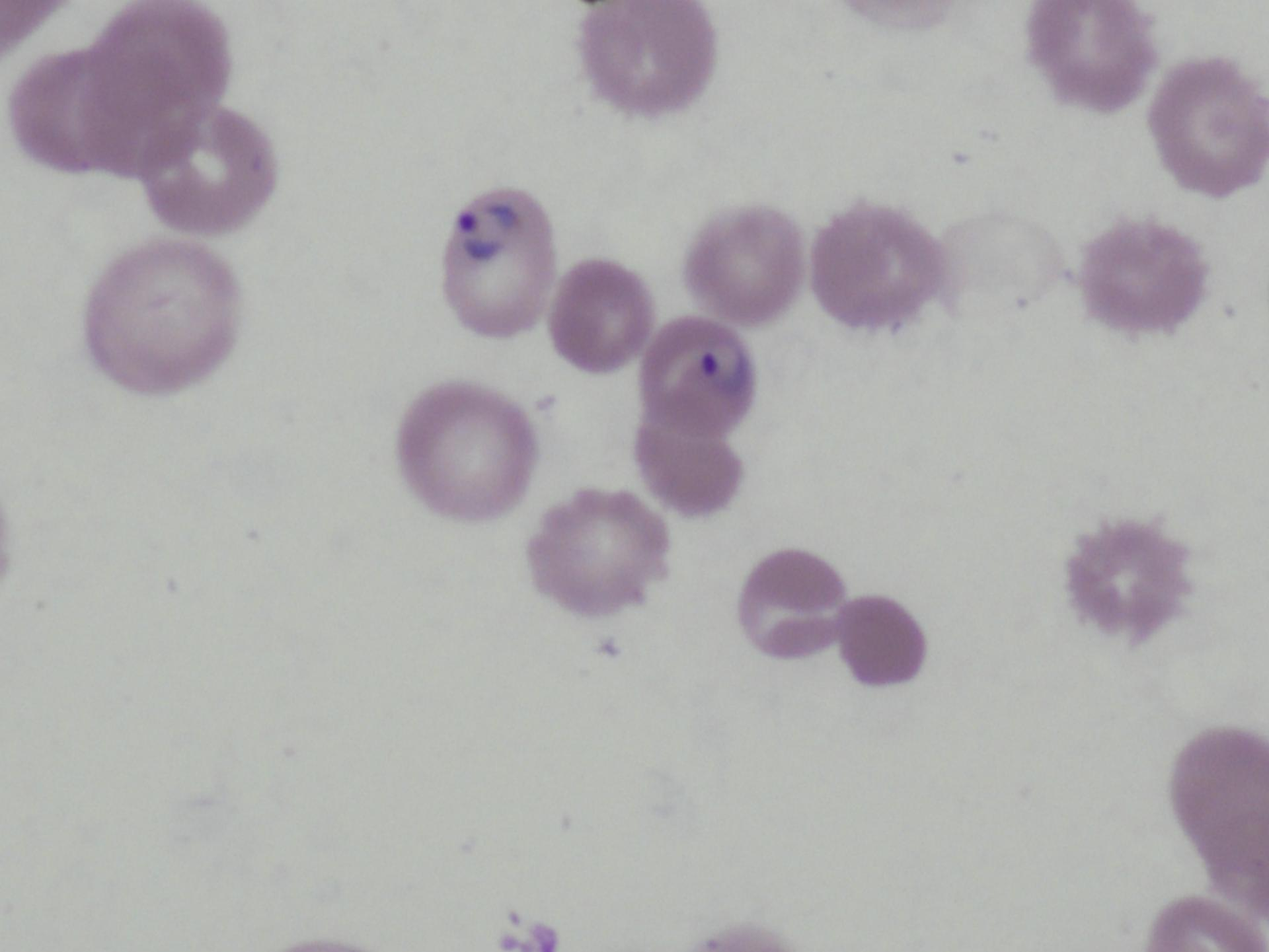Infected: (443, 188, 555, 334), (637, 318, 753, 437)
Uninfected: (66, 0, 231, 165), (85, 240, 239, 391), (396, 384, 535, 518), (527, 491, 666, 614), (1174, 727, 1268, 906), (1148, 57, 1269, 195), (1063, 517, 1190, 642), (812, 204, 941, 326), (142, 112, 272, 231), (582, 0, 712, 114), (686, 206, 804, 324), (1084, 223, 1207, 331), (1032, 0, 1156, 106), (11, 51, 114, 173), (738, 548, 848, 657), (549, 258, 650, 367), (634, 418, 742, 513), (836, 597, 927, 685)
